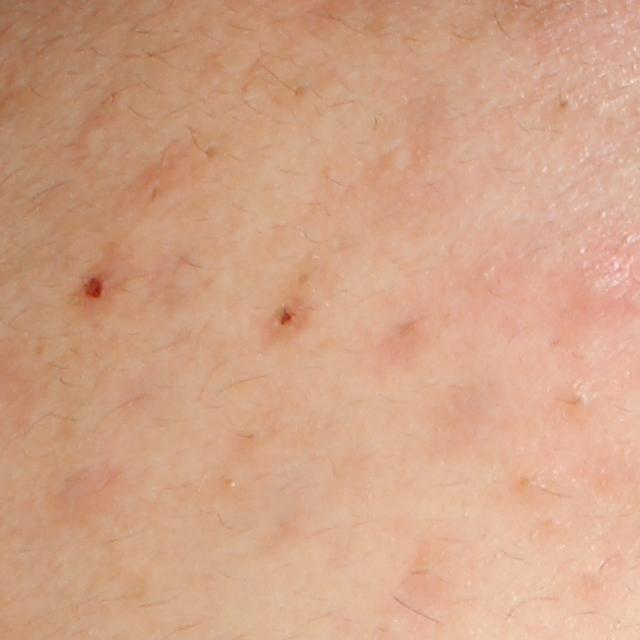comedo: (559, 377, 601, 417), (375, 144, 417, 178), (197, 133, 229, 164), (76, 120, 105, 150), (556, 88, 578, 122)
papule: (81, 273, 114, 303)
